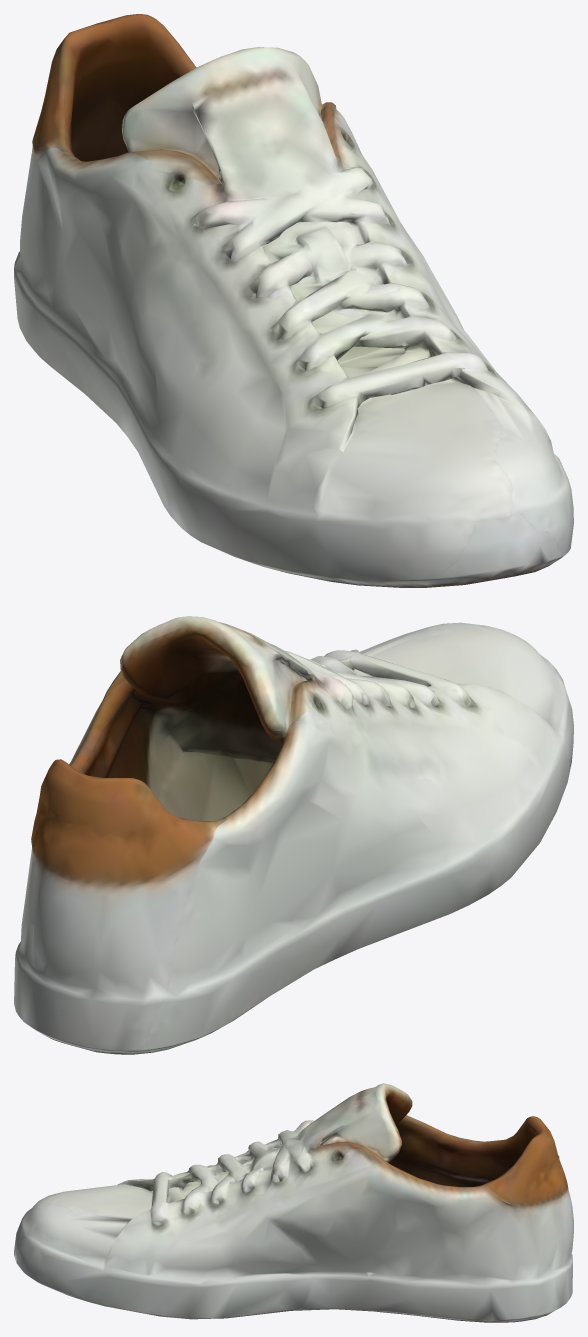
Rendered from Reebok_SH_NEWPORT_LOW-high.glb.
3 views of the same model, one above another, from view 1: azimuth 30°, elevation 25°; view 2: azimuth 150°, elevation 25°; view 3: azimuth 270°, elevation 25° (orthographic). The views are drawn at different scales.
Visible parts, largest first — view 1: Reebok_SH_NEWPORT_LOW; view 2: Reebok_SH_NEWPORT_LOW; view 3: Reebok_SH_NEWPORT_LOW.
Boxes of the visible parts, left/top/right/bottom form: Reebok_SH_NEWPORT_LOW: left=14, top=14, right=573, bottom=587; Reebok_SH_NEWPORT_LOW: left=14, top=616, right=573, bottom=1054; Reebok_SH_NEWPORT_LOW: left=14, top=1083, right=573, bottom=1322.
Bounding box in the file's own units: 0.1042 × 0.1212 × 0.2866.
1 material, 1 textured.
